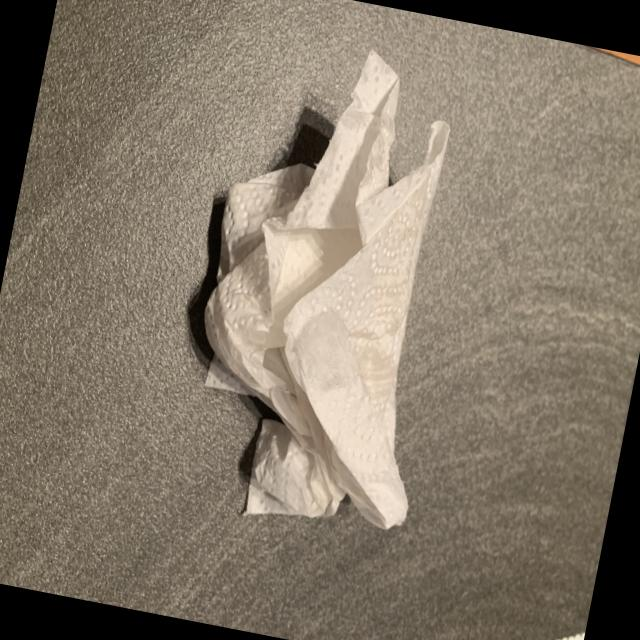organic waste: (164, 21, 496, 558)
